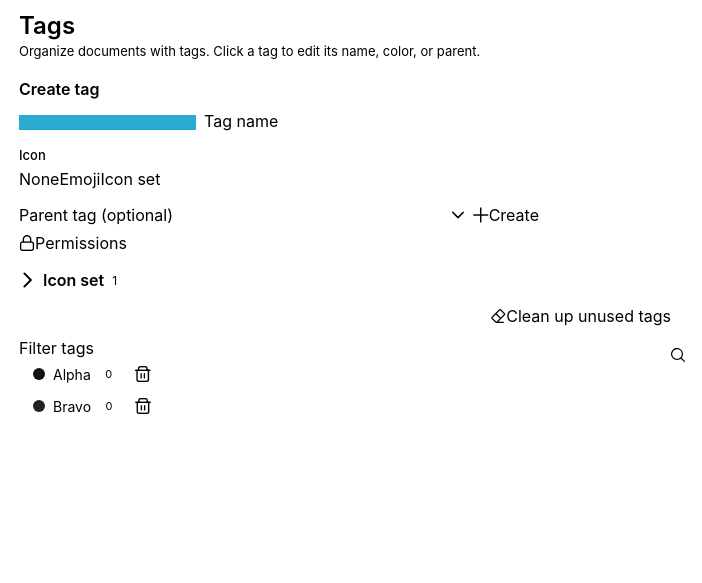
TagList — a create the server refuses (#306) › falls back to a plain failure message when the server names no reason
The image size is (702, 583).
Click the button with class "tag-new-permissions-btn": x=73, y=243 [19,233,127,253]
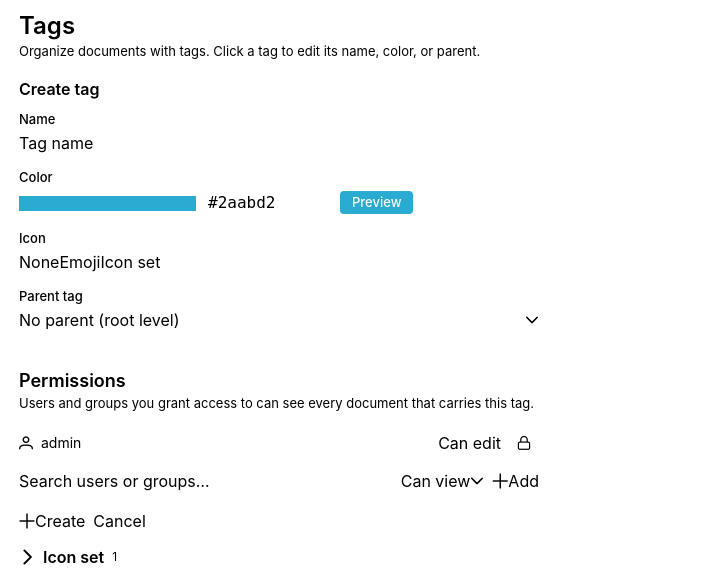
In the field with placeholder "Tag name": x=279, y=143 [19,133,539,153], type "Insurance 2026"
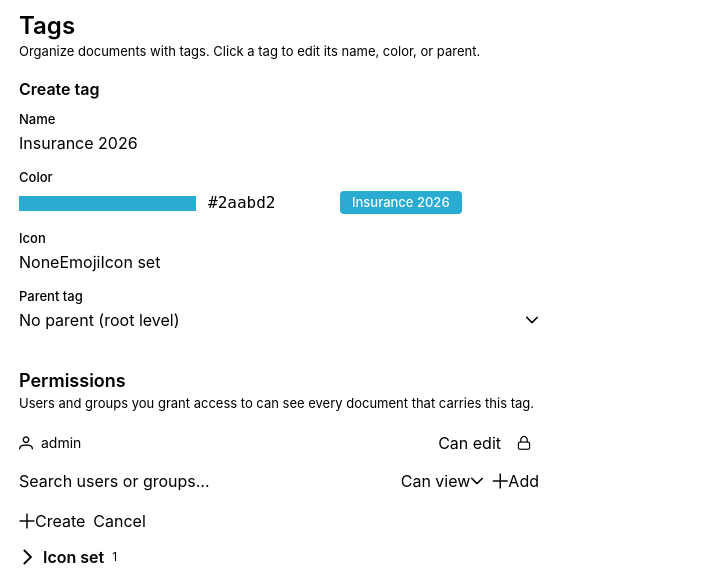
Click the button with class "tag-create-btn": x=52, y=521 [19,511,85,531]
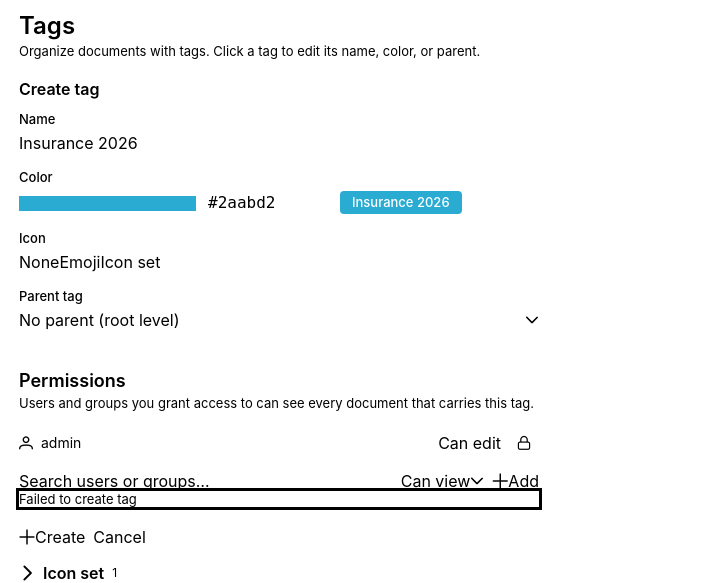
Expected: the element with class "tag-new-error" reads "Failed to create tag", [19,491,137,507]
